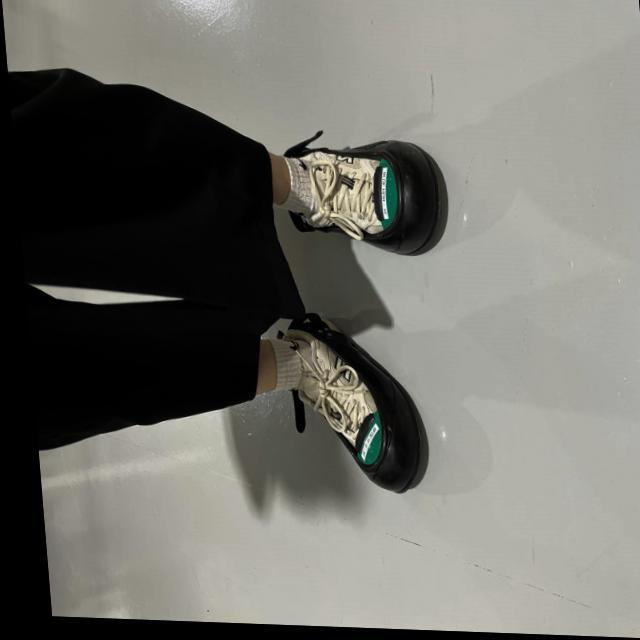shoes: (282, 316, 431, 494), (280, 126, 450, 267)
